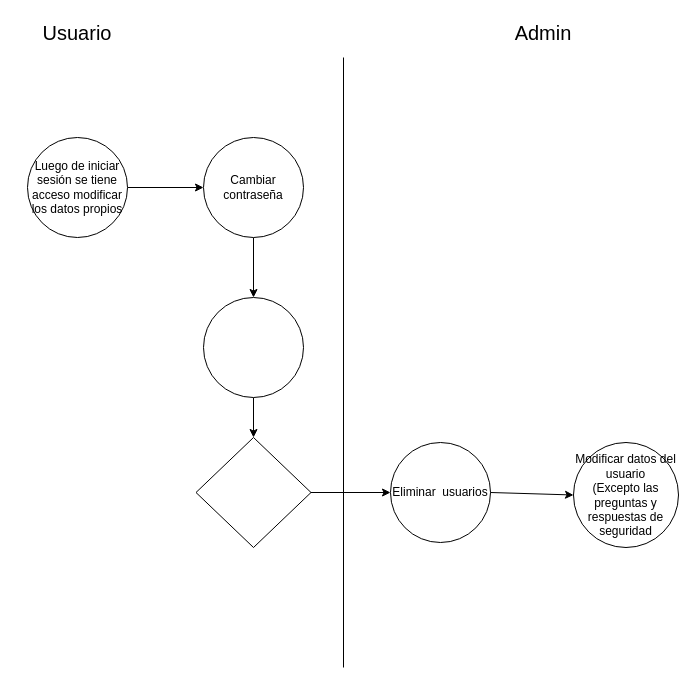
The diagram is 696 pixels wide and 686 high, and some of its shapes have lost their labels. The box of each missing label's shape, as (x1, y1, x2, y2) in pixels:
En caso que el usuario tenga rol de admin: (195, 436, 311, 548)
Modificar las preguntas de seguridad: (202, 296, 304, 398)
